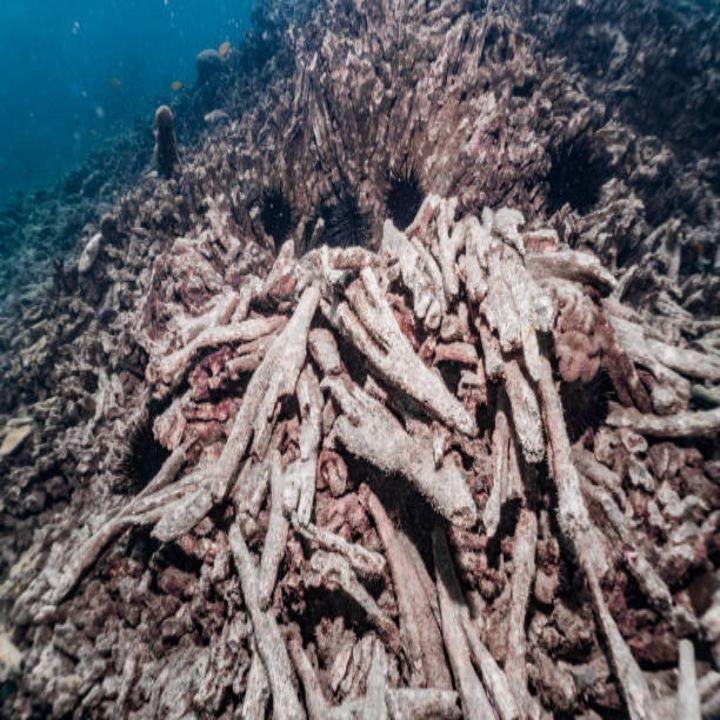Dead Coral: (85, 122, 656, 660)
